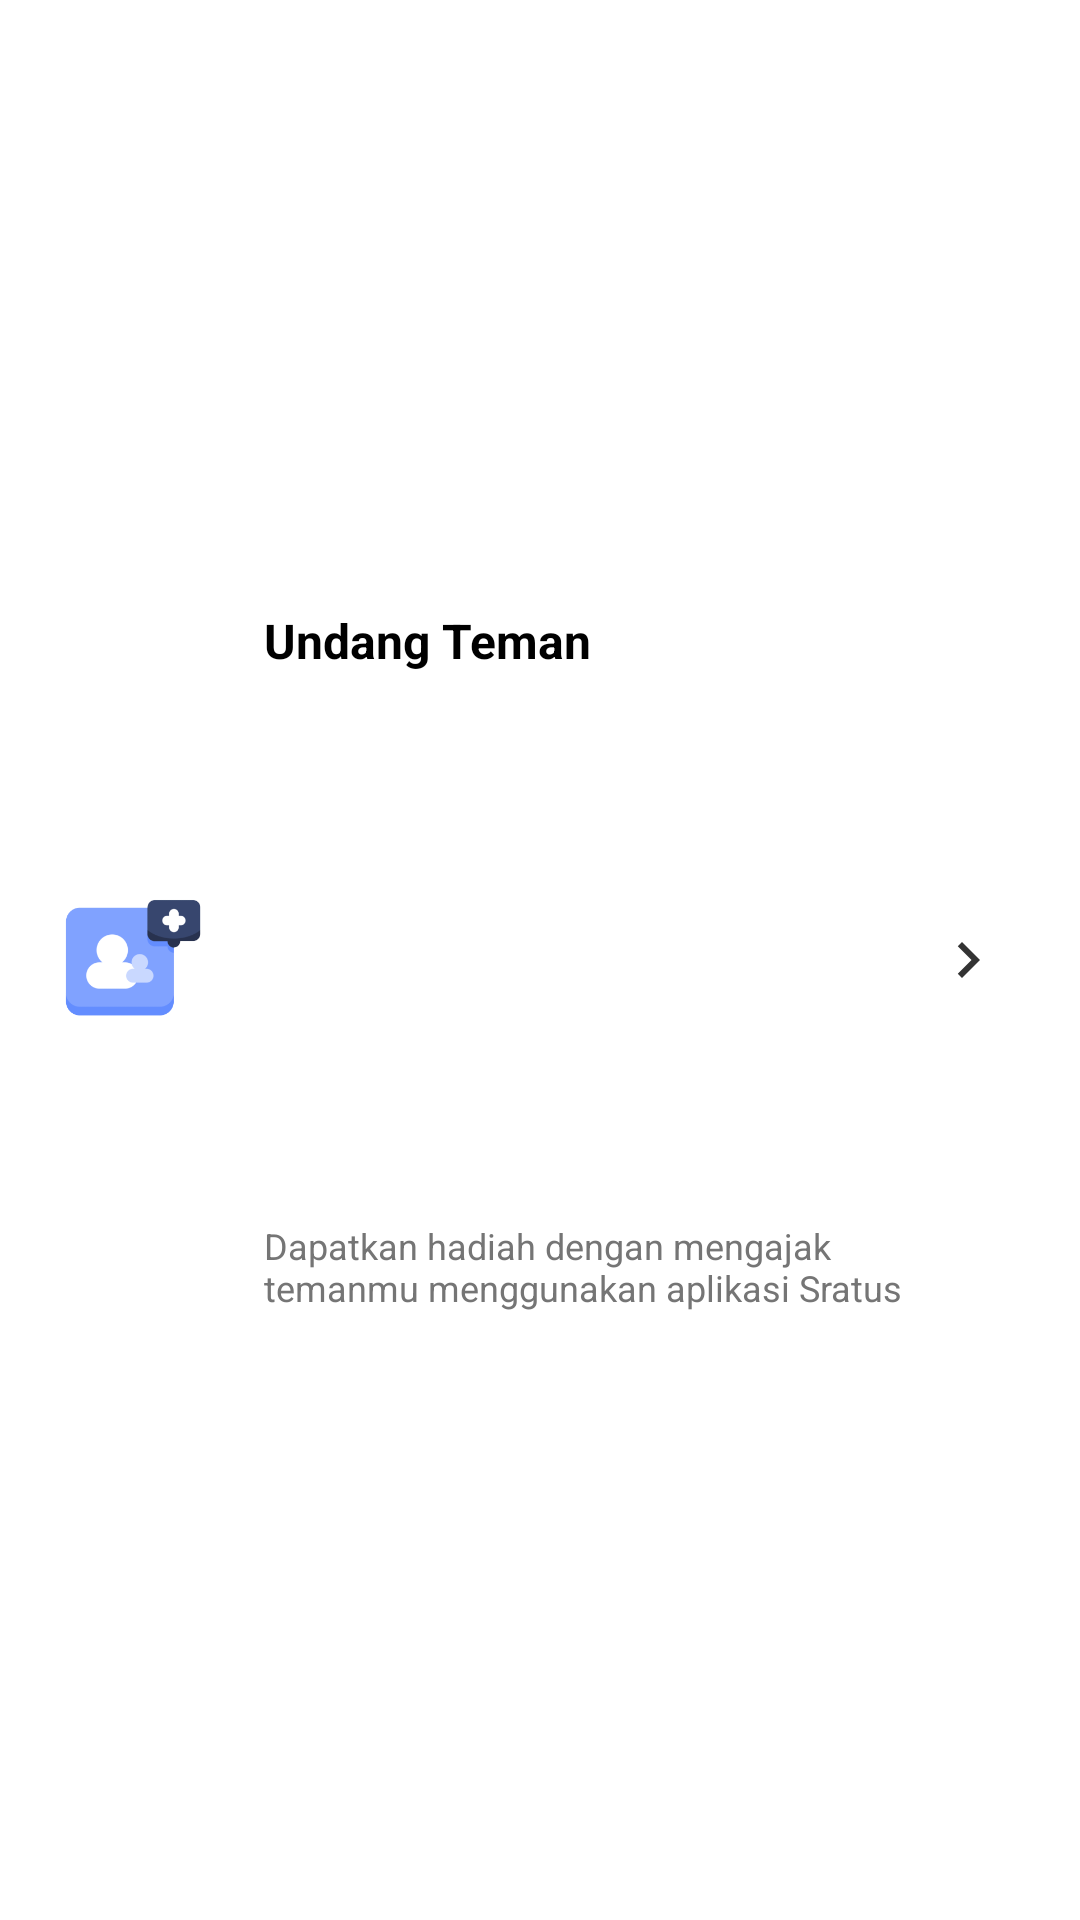

Screen size 1080px×1920px. Icon name, then its center in pixels as (x,y):
next detail: (969,960)
undang teman: (133,958)
